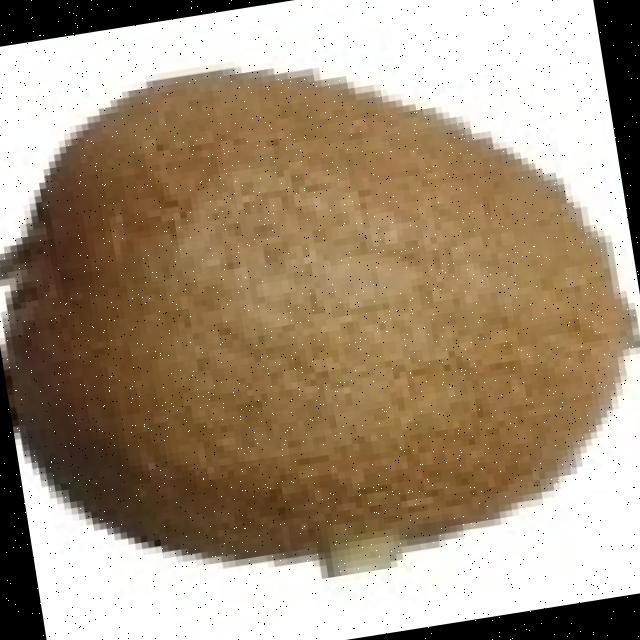kiwi: (6, 62, 637, 557)
